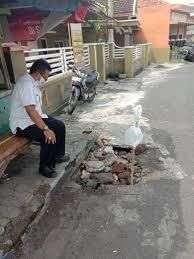Pothole: (55, 125, 164, 212)
